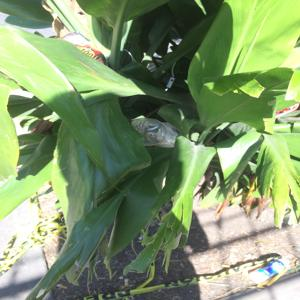plastic: (51, 260, 282, 299), (118, 110, 188, 149)
plastic bottle: (245, 249, 295, 287)
